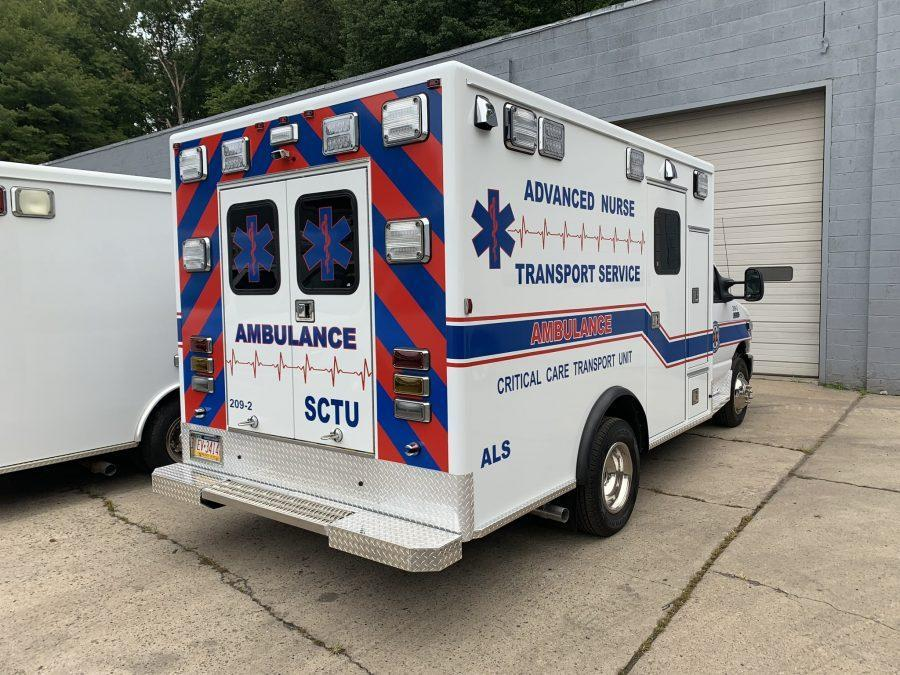Ambulance: (229, 317, 362, 354), (469, 186, 517, 271), (301, 206, 353, 283), (232, 213, 275, 284)
